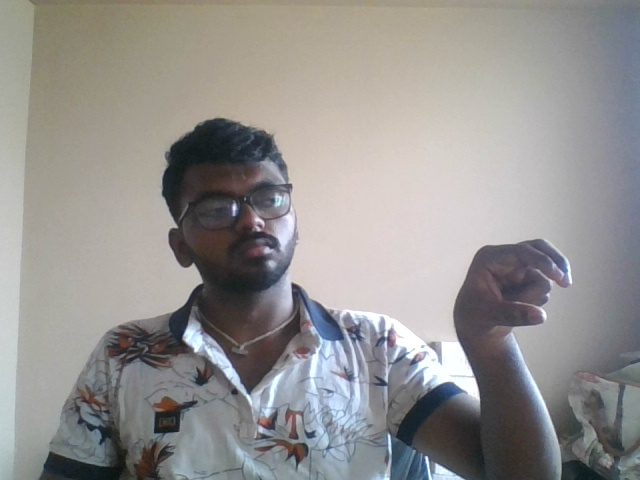No: (414, 200, 589, 364)
